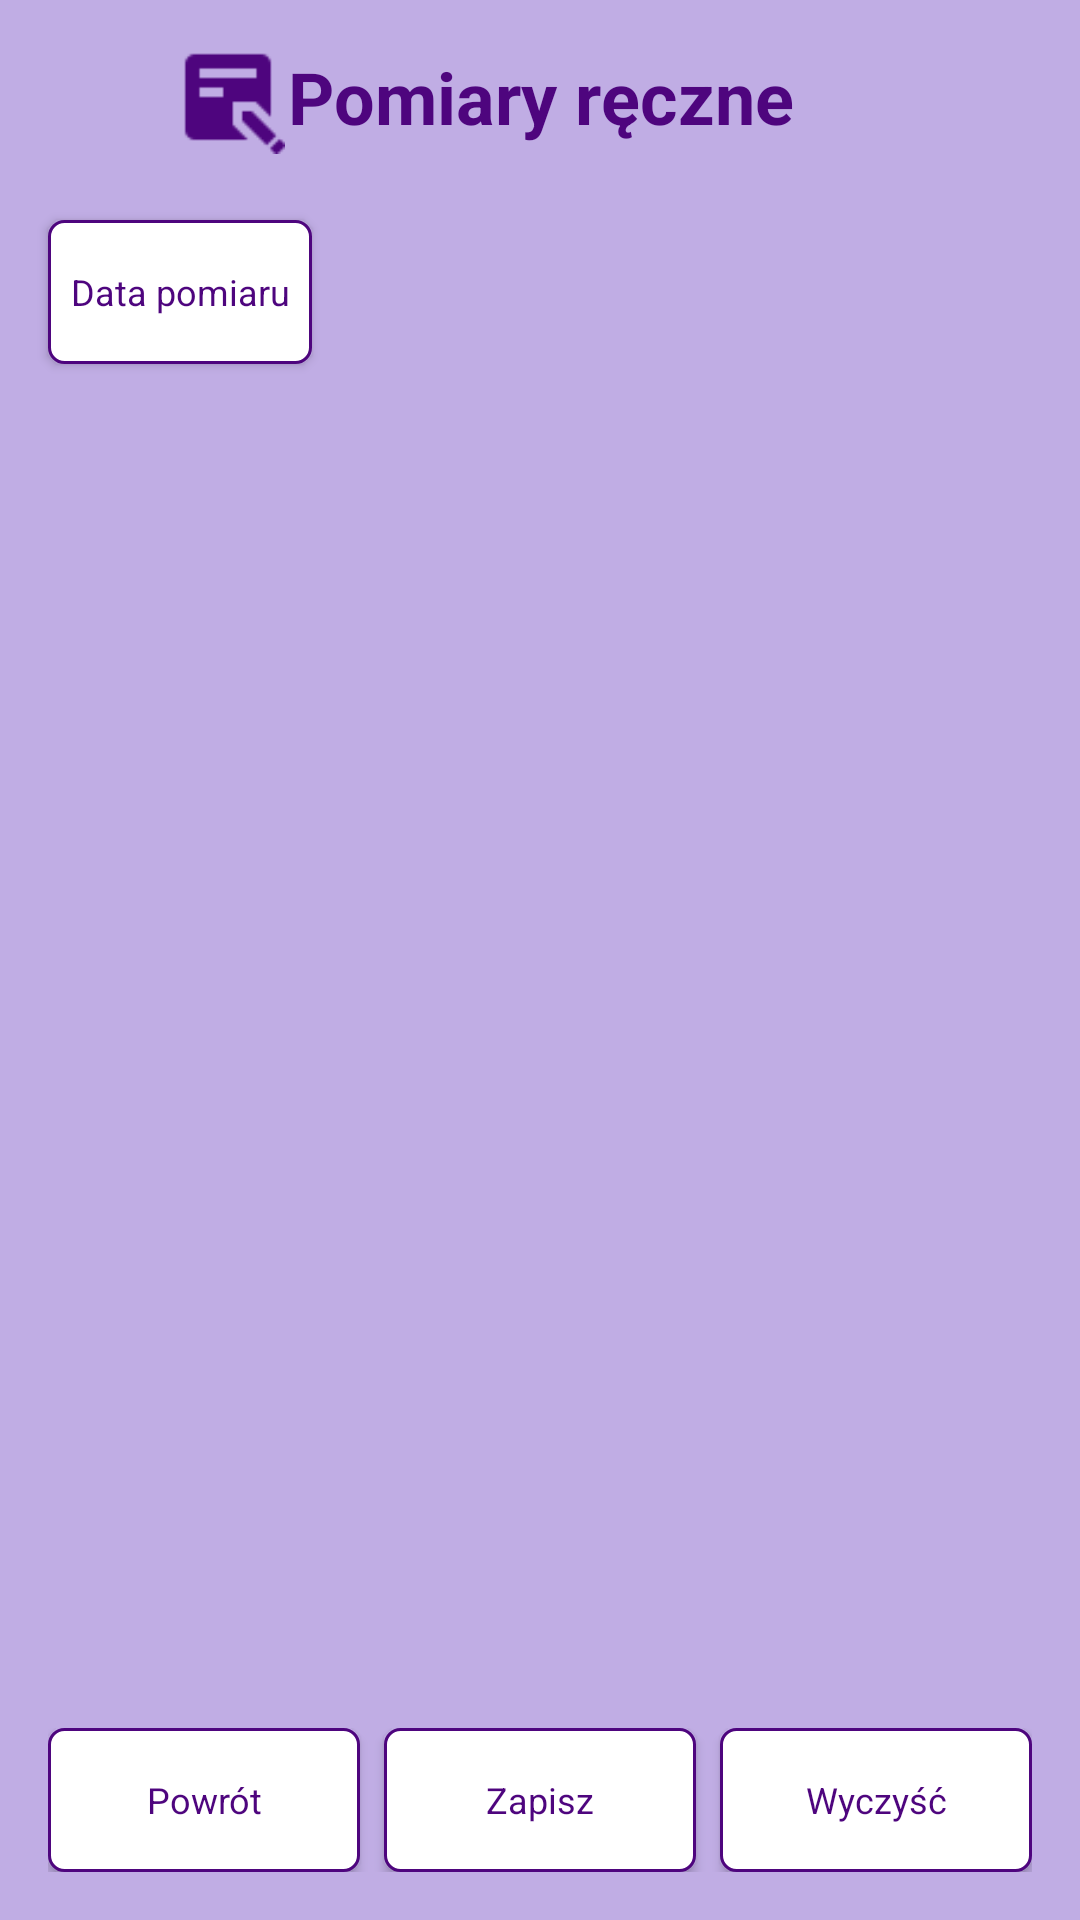

Icons on this 1080×1920 Android screen, each with the point to tap as (x=x, y=y):
manual measure: (x=234, y=103)
